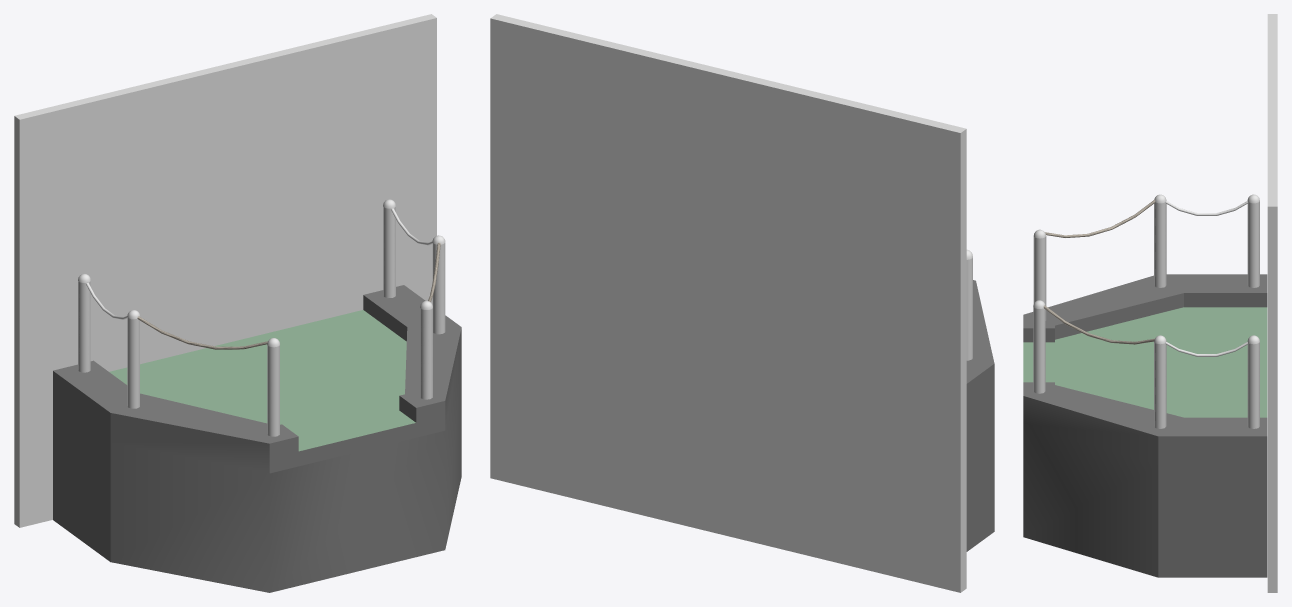
File: Bridge_Jump.fbx
The picture shows the model from 3 angles, left to right: view 1: azimuth 30°, elevation 25°; view 2: azimuth 150°, elevation 25°; view 3: azimuth 270°, elevation 25°; orthographic projection. The views are drawn at different scales.
Visible parts, largest first — view 1: Object002, Cylinder001, Object001, Object003; view 2: Object002, Cylinder001, Object001; view 3: Cylinder001, Object001, Object002, Object003, Cylinder008, Cylinder010.
Part boxes in pixels (x1,y1,x2,y2): Object002: (14, 14, 436, 527); Cylinder001: (53, 285, 461, 592); Object001: (78, 207, 445, 436); Object003: (78, 199, 445, 347); Object002: (490, 14, 966, 592); Cylinder001: (966, 280, 994, 551); Object001: (966, 258, 972, 360); Cylinder001: (1023, 274, 1267, 577); Object001: (1033, 201, 1259, 428); Object002: (1267, 14, 1277, 592); Object003: (1033, 194, 1259, 344); Cylinder008: (1043, 305, 1154, 344); Cylinder010: (1045, 199, 1155, 237).
Size of the model in its own units: 146 by 137 by 81.63.
Materials: 5 (1 with a texture image).
